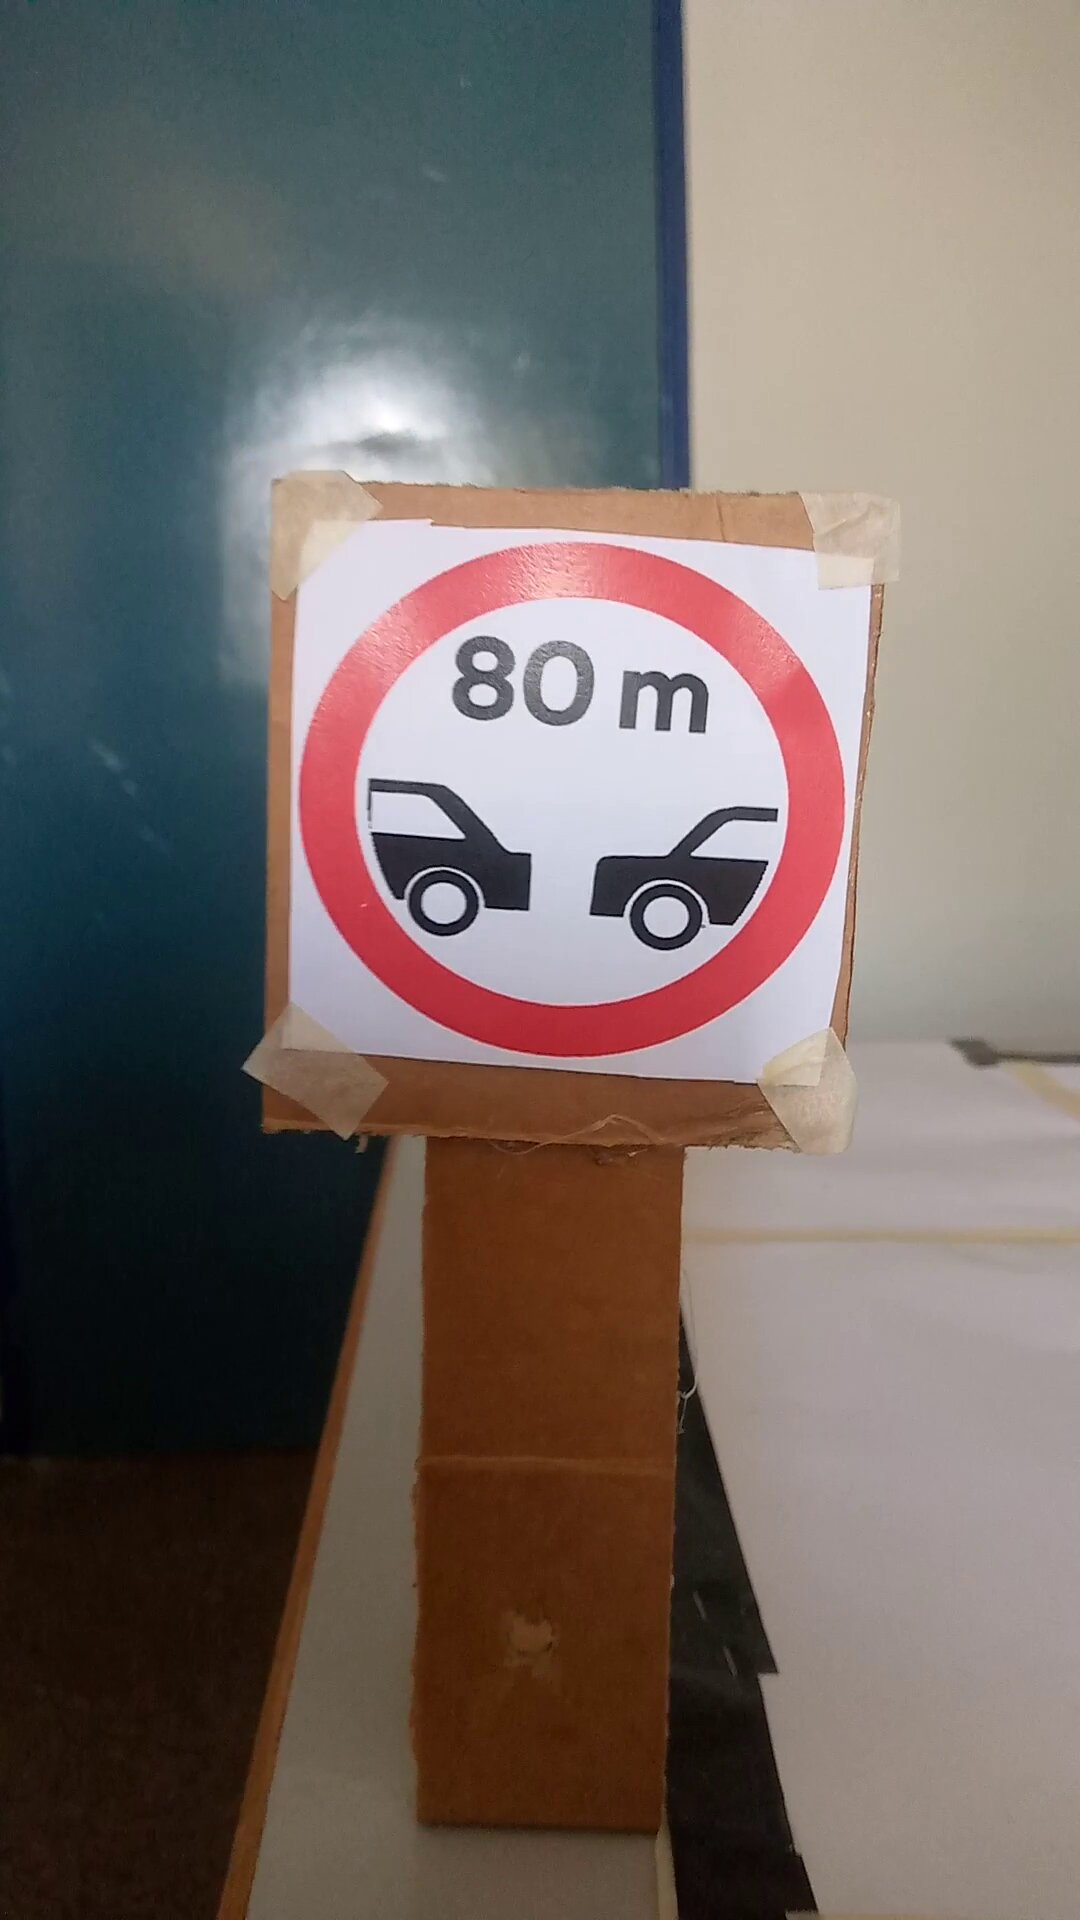panel001: (273, 477, 878, 1139)
